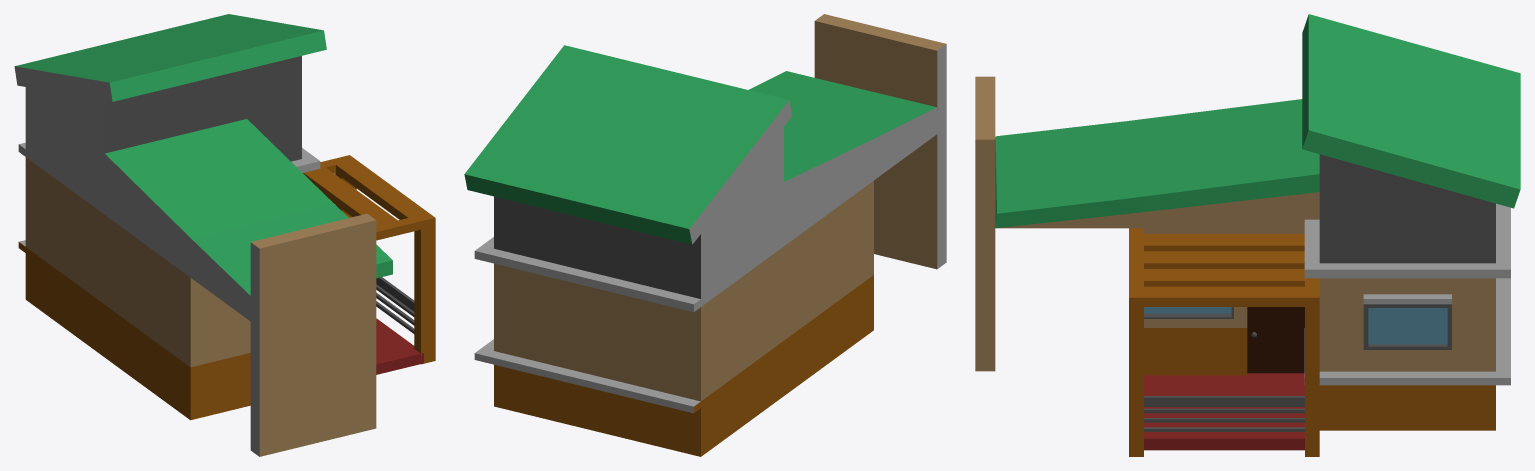
File: hause3.obj
3 renders of one model, left to right at view 1: azimuth 30°, elevation 25°; view 2: azimuth 150°, elevation 25°; view 3: azimuth 270°, elevation 25°, orthographic. The views are drawn at different scales.
Visible parts, largest first — view 1: Cube_Cube.001; view 2: Cube_Cube.001; view 3: Cube_Cube.001.
Boxes of the visible parts, left/top/right/bottom form: Cube_Cube.001: left=14, top=14, right=435, bottom=456; Cube_Cube.001: left=464, top=14, right=946, bottom=456; Cube_Cube.001: left=975, top=14, right=1520, bottom=456.
Bounding box in the file's own units: 4.2 × 4.57 × 7.28.
